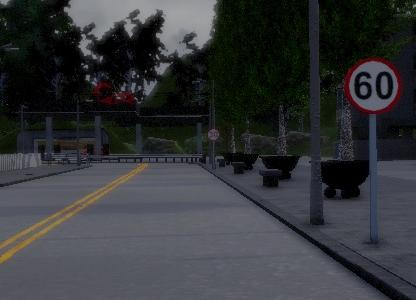Speed_60: (341, 52, 403, 115)
